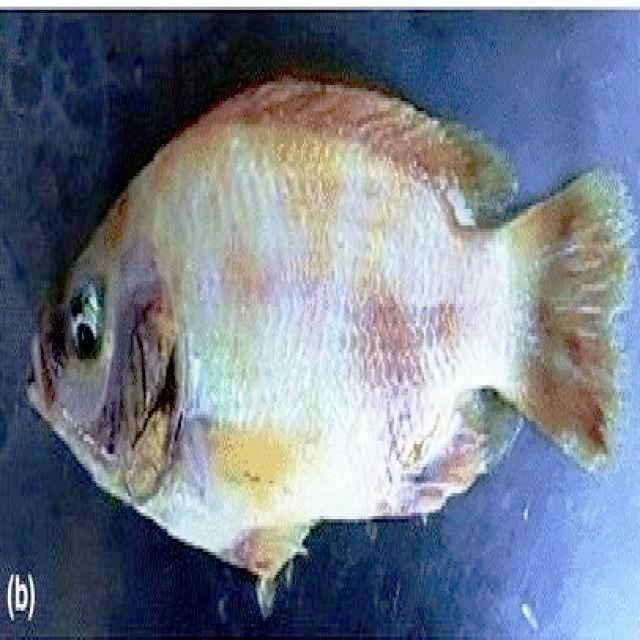Tilapia Lake Virus -TiLV-: (28, 78, 634, 612), (28, 79, 628, 606), (28, 79, 628, 604)
